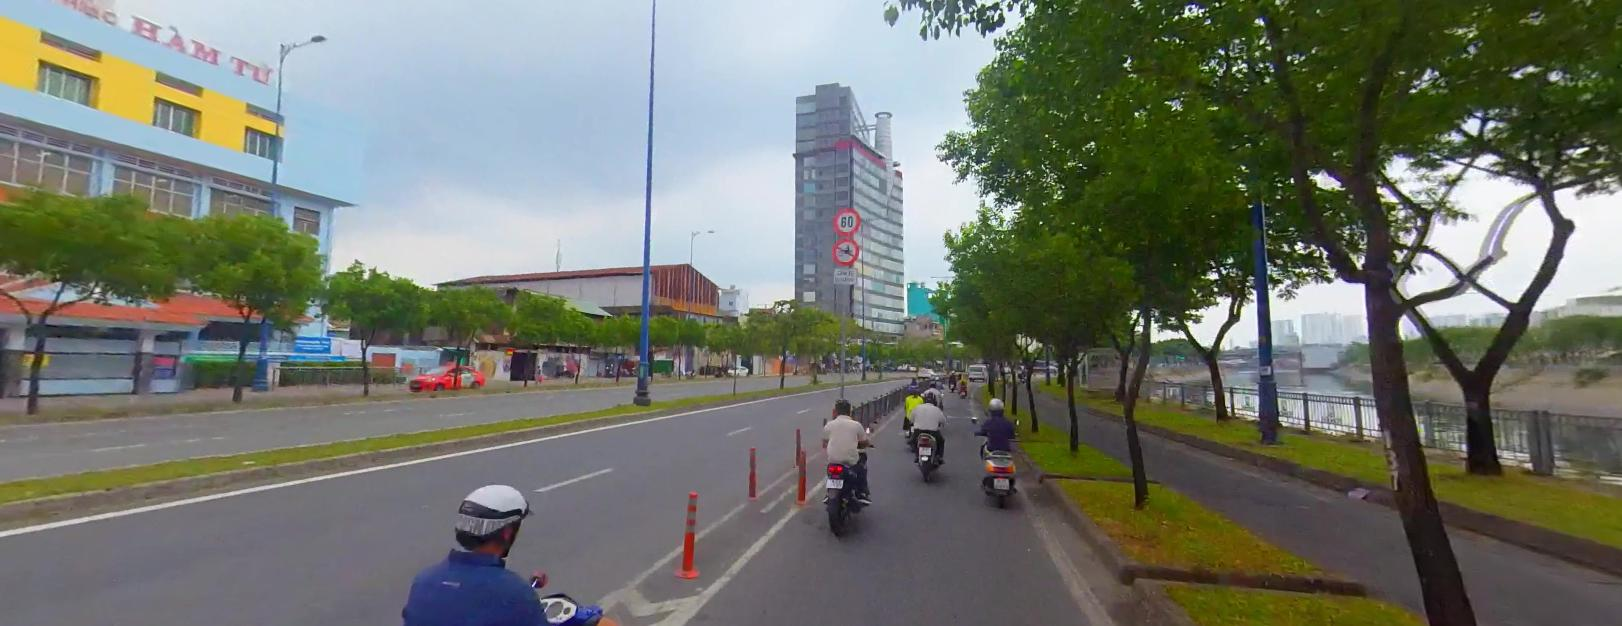Cam con lai: (832, 235, 860, 264)
Gioi han toc do: (833, 204, 861, 234)
